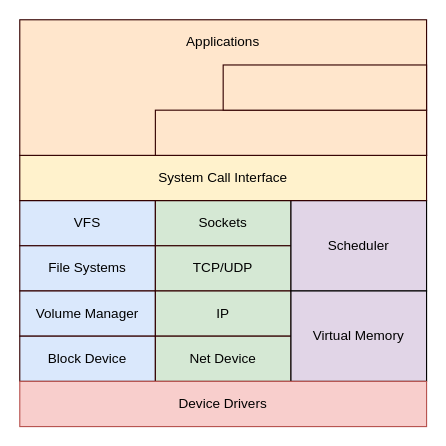
The diagram is 446 pixels wide and 446 high, and some of its shapes have lost their labels. Each missing label, with the centre of its shape:
"Runtimes" belongs at (x=324, y=87).
"System Libraries" belongs at (x=290, y=132).
